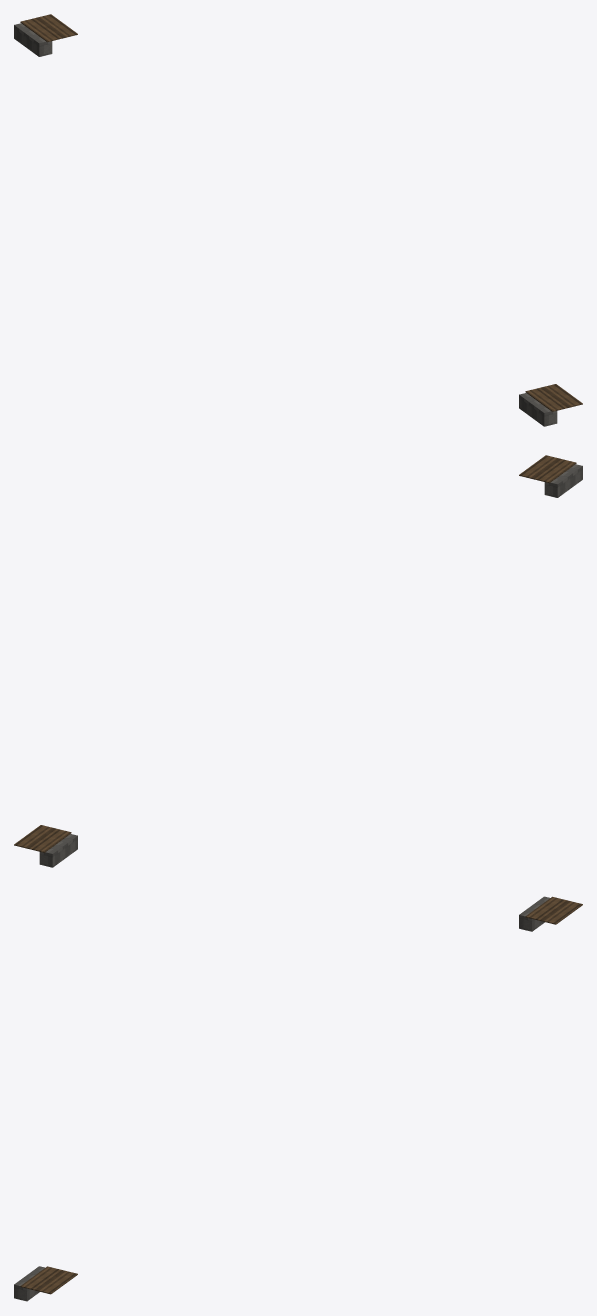
The model's file is A_bridge_abutment.glb.
3 views of the same model, one above another, from view 1: azimuth 30°, elevation 25°; view 2: azimuth 150°, elevation 25°; view 3: azimuth 330°, elevation 25° (orthographic).
Visible parts, largest first — view 1: A_bridge_abutment; view 2: A_bridge_abutment; view 3: A_bridge_abutment.
Part boxes in pixels (bbox=[...]): A_bridge_abutment: bbox=[14, 14, 582, 426]; A_bridge_abutment: bbox=[14, 455, 582, 867]; A_bridge_abutment: bbox=[14, 896, 582, 1301].
Size of the model in its own units: 5.2 by 1.92 by 126.
Materials: 2 (2 with a texture image).
